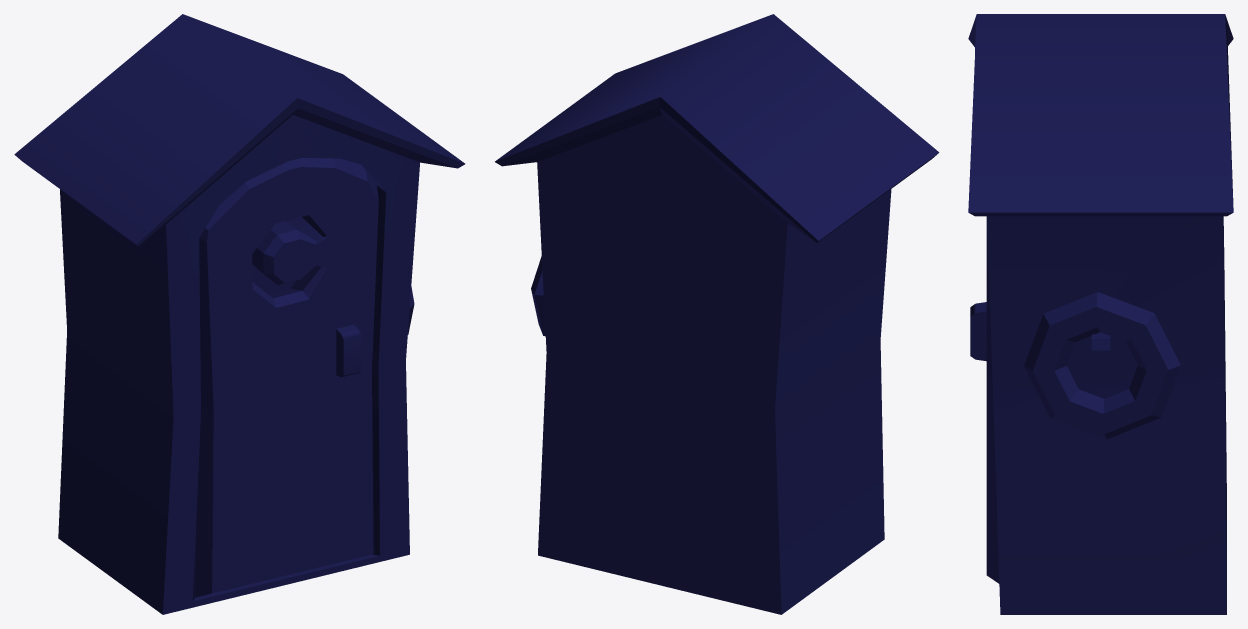
Rendered from portapottyfinal.fbx.
The picture shows the model from 3 angles, left to right: view 1: azimuth 30°, elevation 25°; view 2: azimuth 150°, elevation 25°; view 3: azimuth 270°, elevation 25°; orthographic projection. The views are drawn at different scales.
Parts seen in each view (by area): view 1: portapotty; view 2: portapotty; view 3: portapotty.
Boxes of the visible parts, x1,y1,x2,y2 form: portapotty: [14, 14, 465, 614]; portapotty: [495, 14, 939, 614]; portapotty: [968, 14, 1233, 614].
Bounding box in the file's own units: 2.04 × 2.94 × 1.32.
